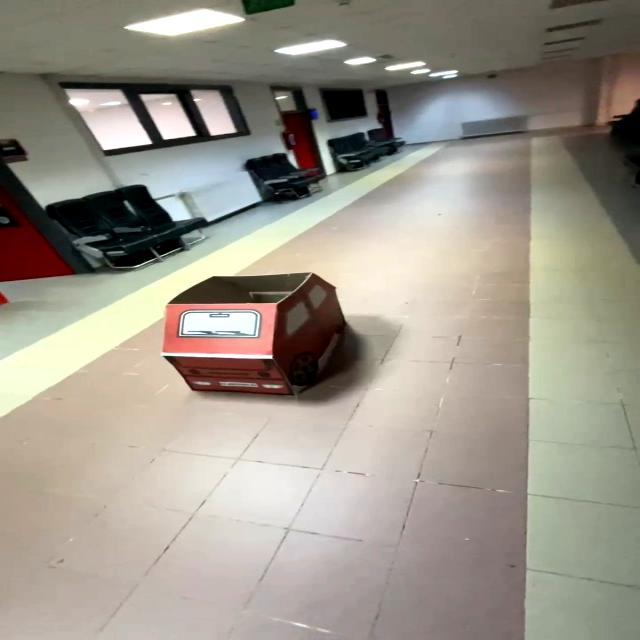red_car: (103, 262, 394, 409)
